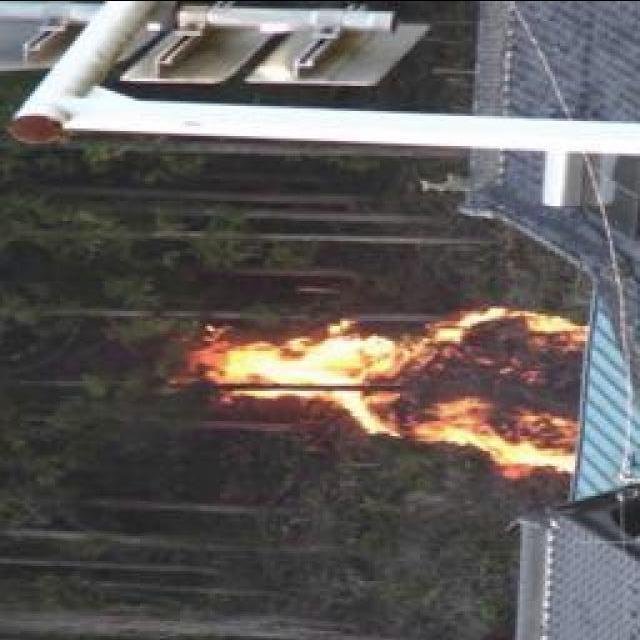Fire: (196, 299, 584, 474)
